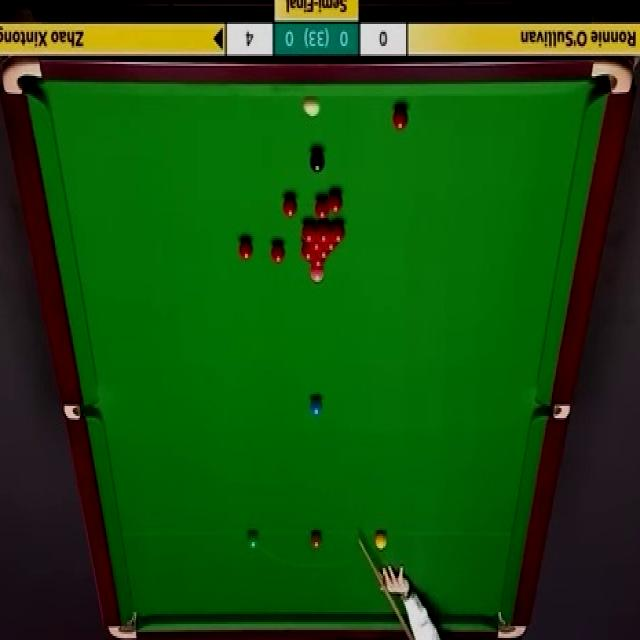black-ball: (309, 148, 325, 174)
blue-ball: (310, 399, 322, 415)
brown-ball: (309, 531, 323, 549)
green-ball: (245, 530, 260, 552)
pink-ball: (309, 266, 326, 283)
red-ball: (392, 108, 408, 131), (300, 238, 316, 261), (271, 241, 285, 266), (316, 224, 333, 244), (315, 199, 331, 219), (328, 191, 343, 212), (332, 223, 347, 244), (283, 196, 297, 218), (303, 220, 316, 243), (238, 238, 252, 259), (311, 253, 325, 268), (325, 240, 337, 252)
white-ball: (302, 96, 322, 118)
yellow-ball: (375, 530, 389, 549)
